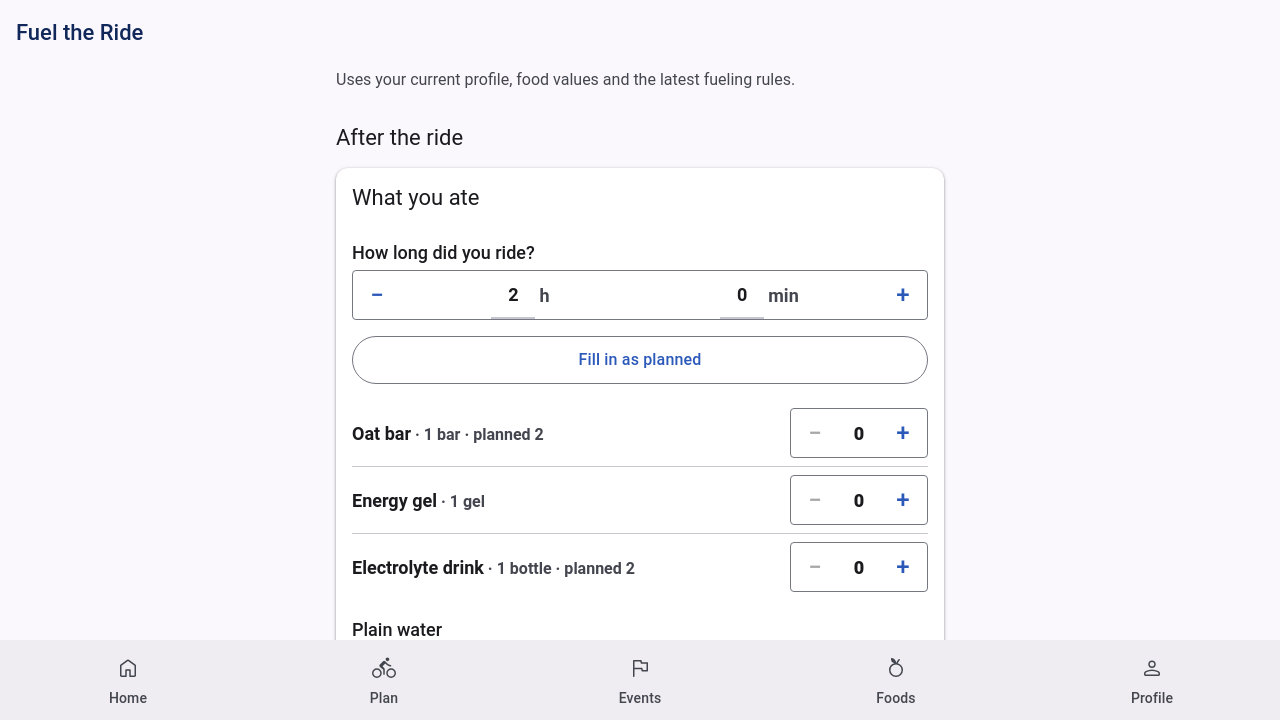
log what you ate › "Fill in as planned" logs the plan; saving shows what you actually ate per hour
(page scrolled)
Click the button "Fill in as planned" at (640, 360), box [352,336,928,384]
(page scrolled)
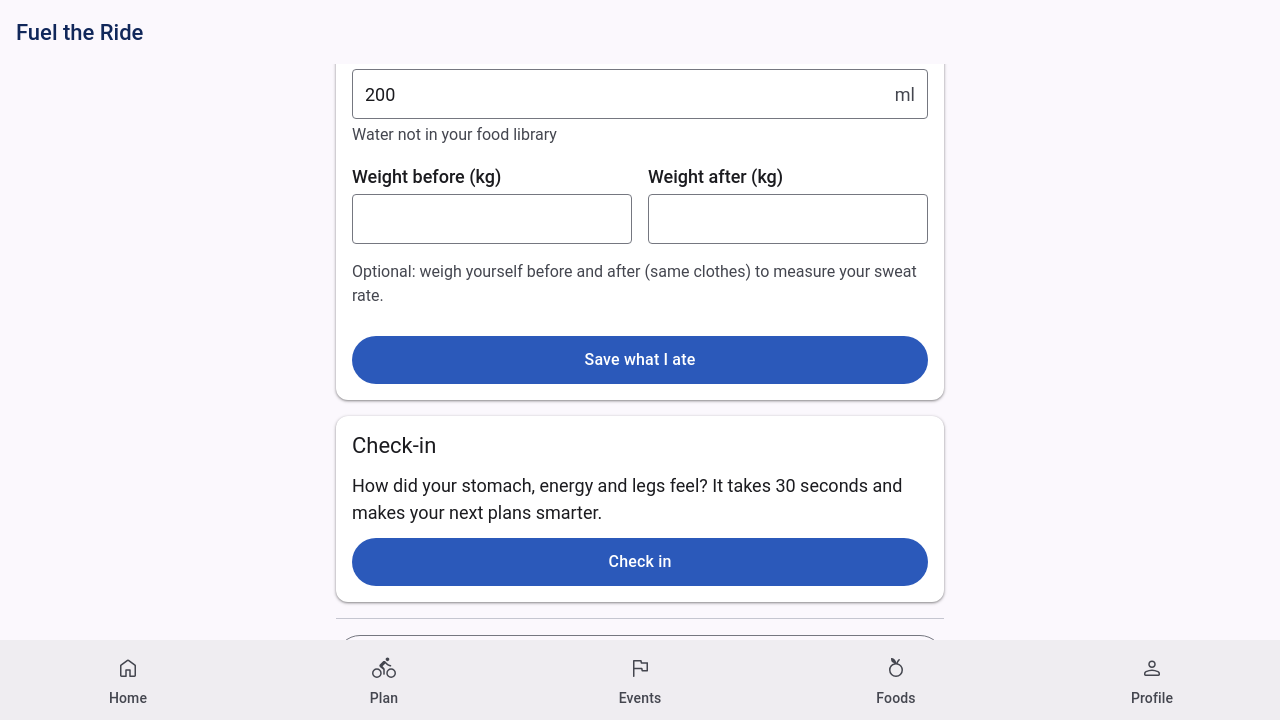
Check: the field labelled "Plain water" holds "200", box [353,70,895,118]
Click the button "Save what I ate" at (640, 360), box [352,336,928,384]
(page scrolled)
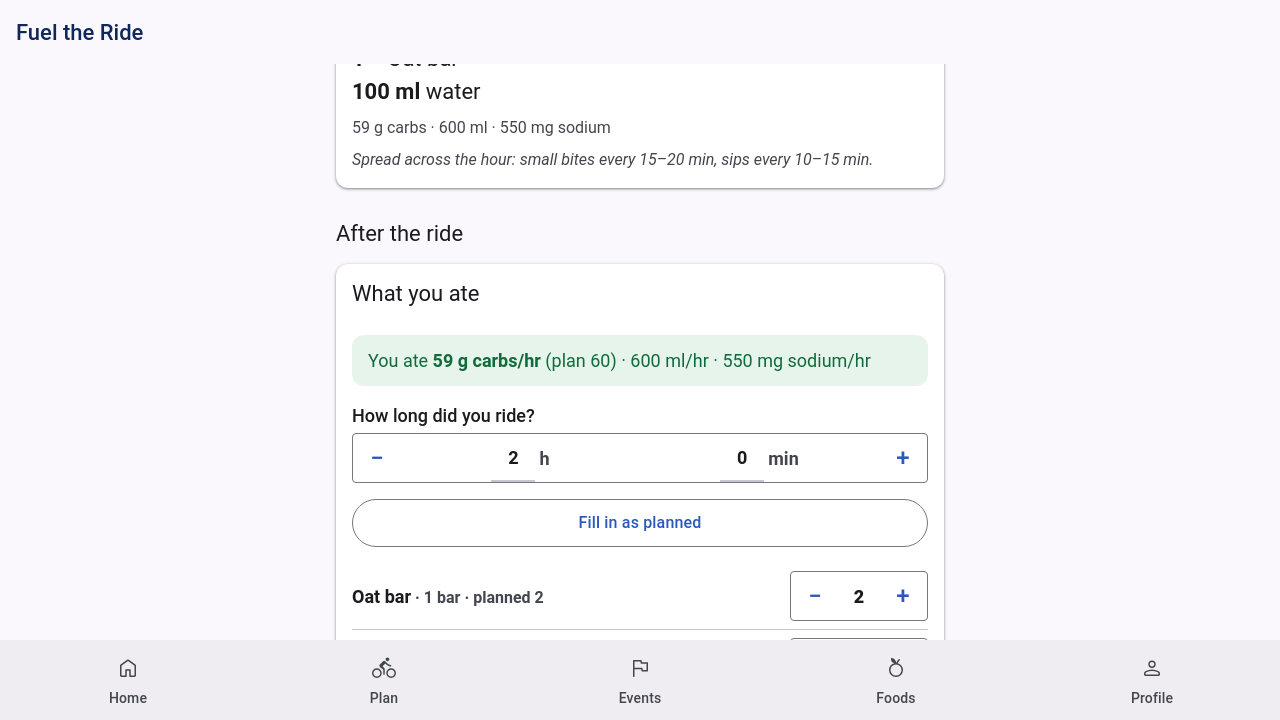
Check: the text "You ate 59 g carbs/hr (plan 60) · 600 ml/hr · 550 mg sodium/hr" is shown, box [352,335,928,386]
